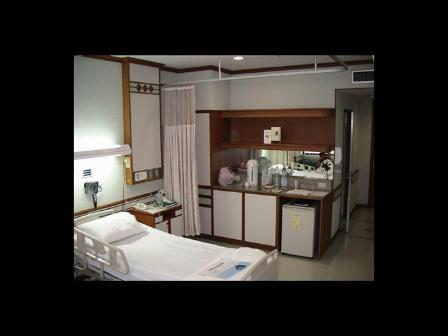Electrodomestico: (280, 202, 315, 256)
Puerta: (338, 111, 357, 234)
